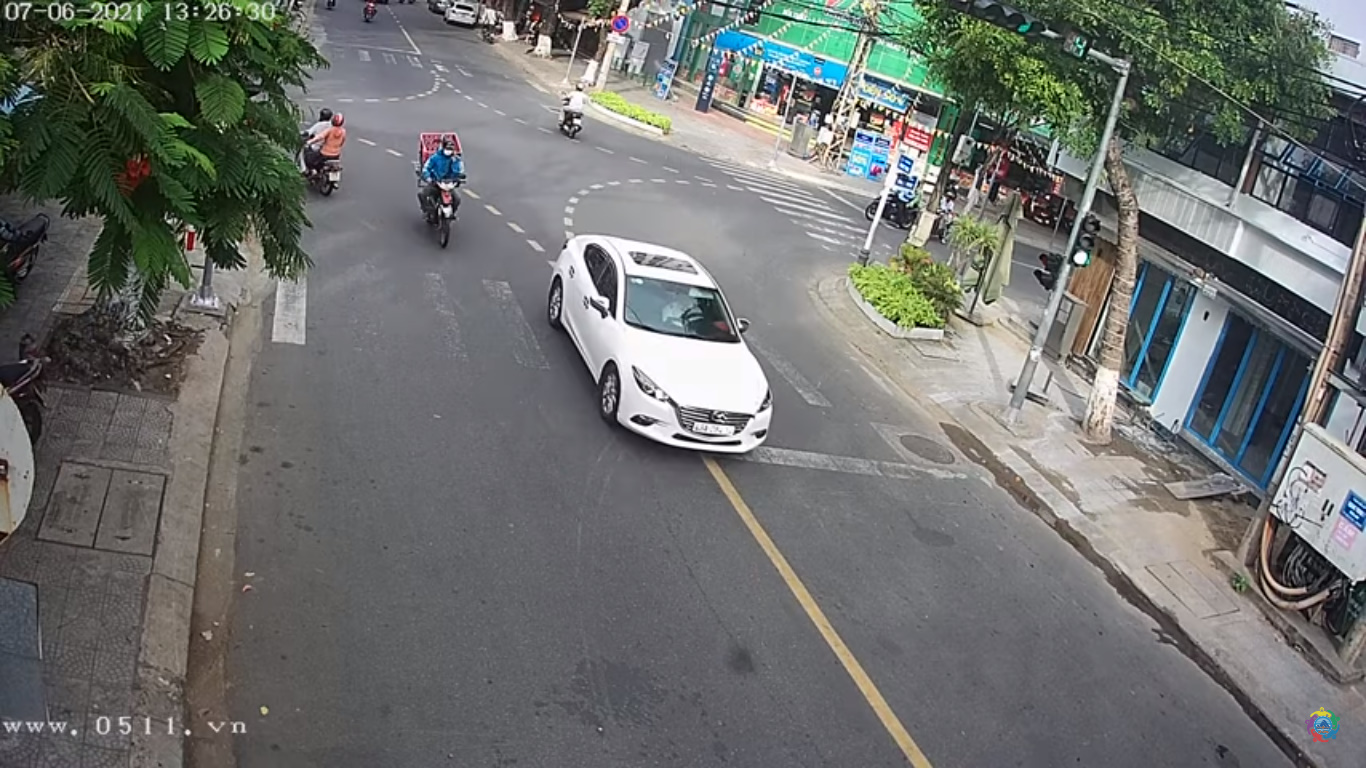car: (543, 235, 776, 451)
motorbike: (413, 133, 474, 250)
